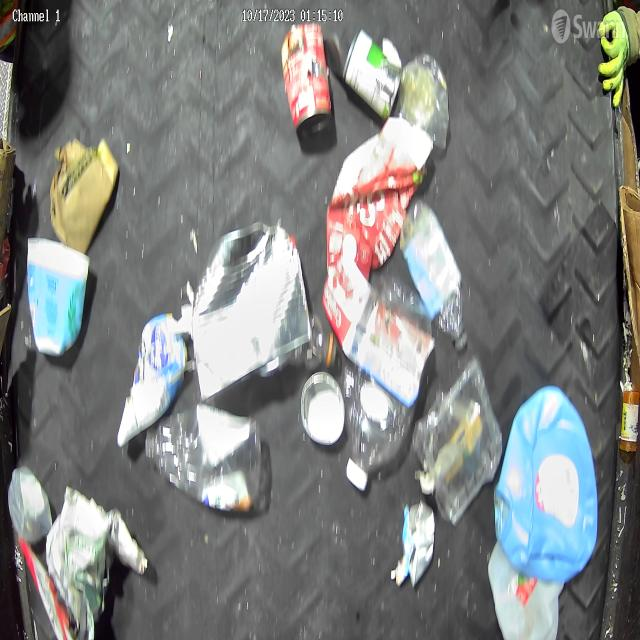can: (192, 213, 313, 404), (280, 24, 332, 134), (342, 28, 402, 118), (298, 364, 344, 447)
milk_jug: (488, 540, 560, 640)
non_white_jug: (492, 385, 600, 584)
plastic_bottle: (146, 408, 266, 510), (401, 200, 471, 354)
